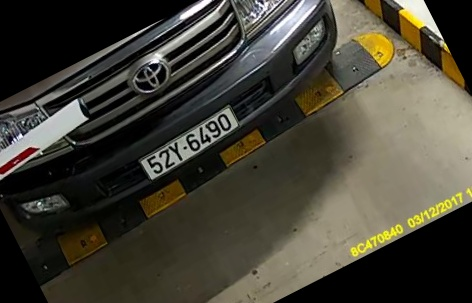plate: (127, 106, 260, 185)
